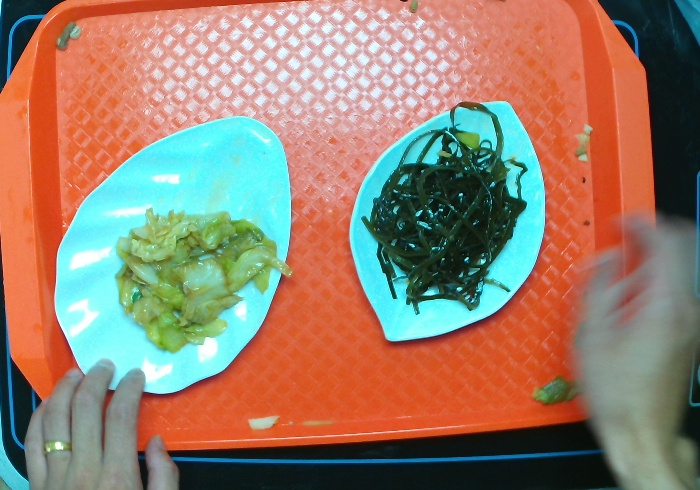RJxy-Bai_Ye_Pan: (49, 108, 294, 401)
RJxy-Da_Du_Pan: (344, 97, 547, 360)
